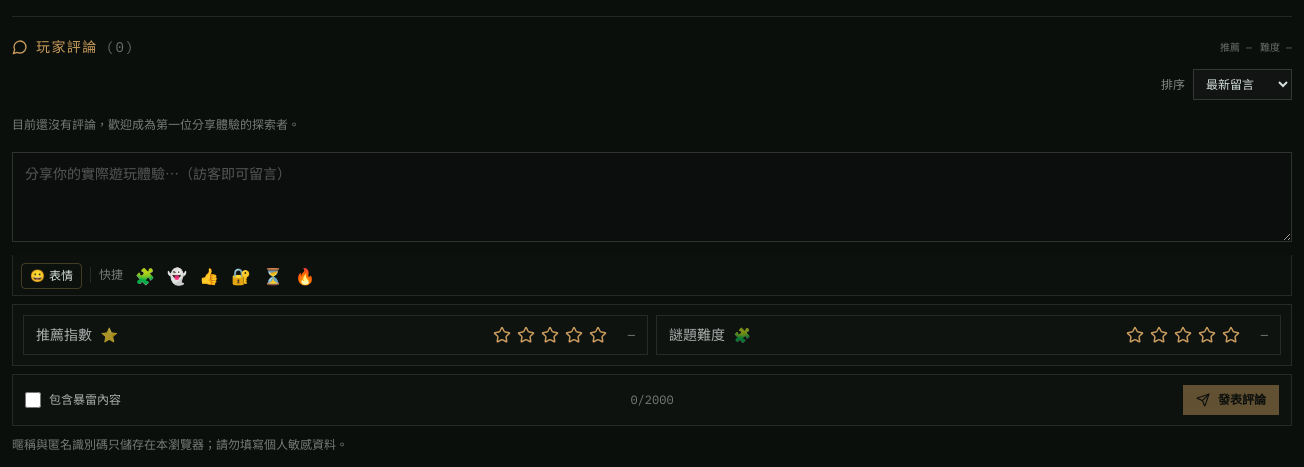
TopicComments › inserts a quick emoji at the textarea cursor position
Type "精彩心得" into the text box named "分享你對《冥婚》的體驗" at (652, 197), box [12,152,1292,242]
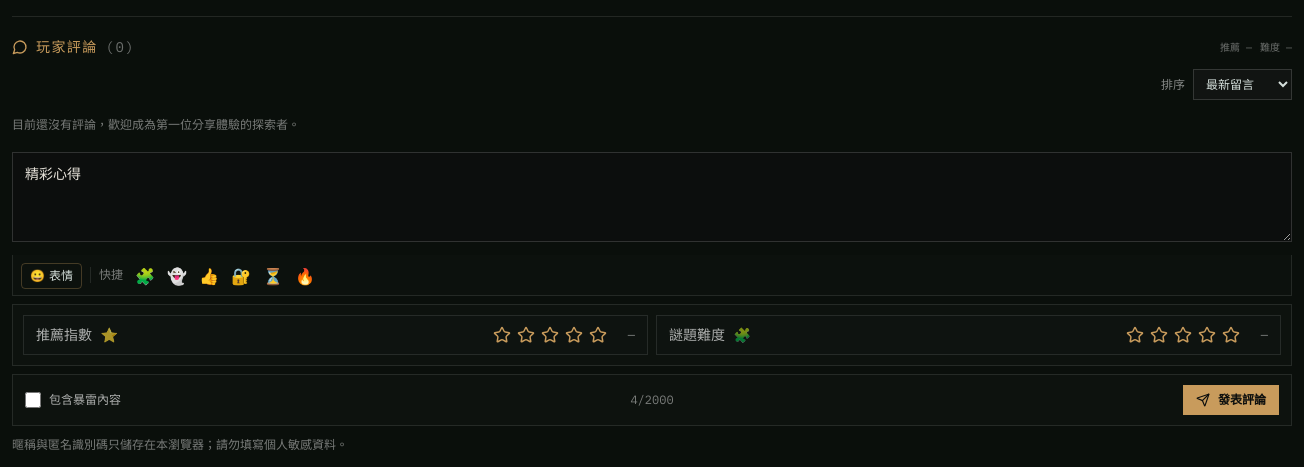
Click the button named "插入🧩" at (145, 275), box [131,261,159,289]
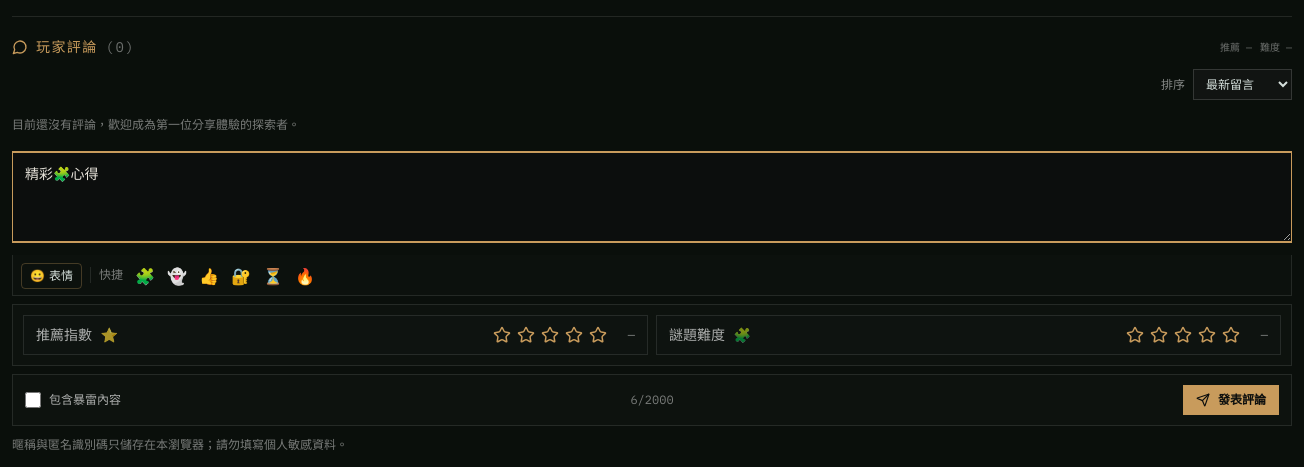
expect the text box named "分享你對《冥婚》的體驗" holds "精彩🧩心得": met, box [12,152,1292,242]
